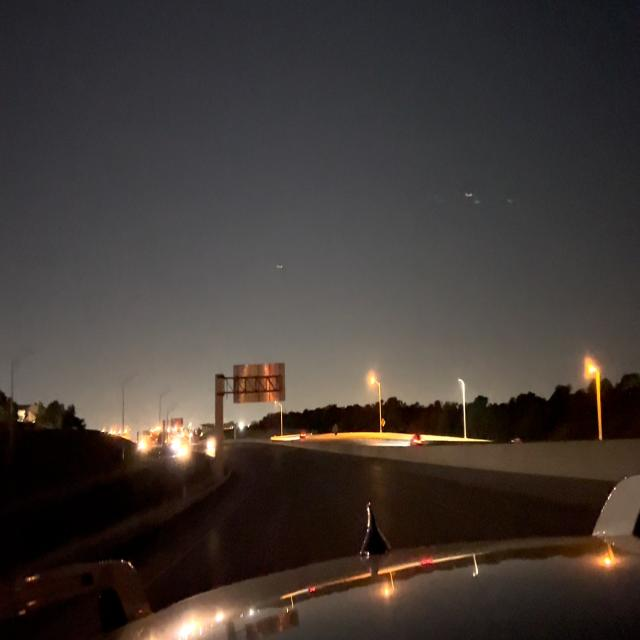back-of-sign: (234, 362, 285, 400)
